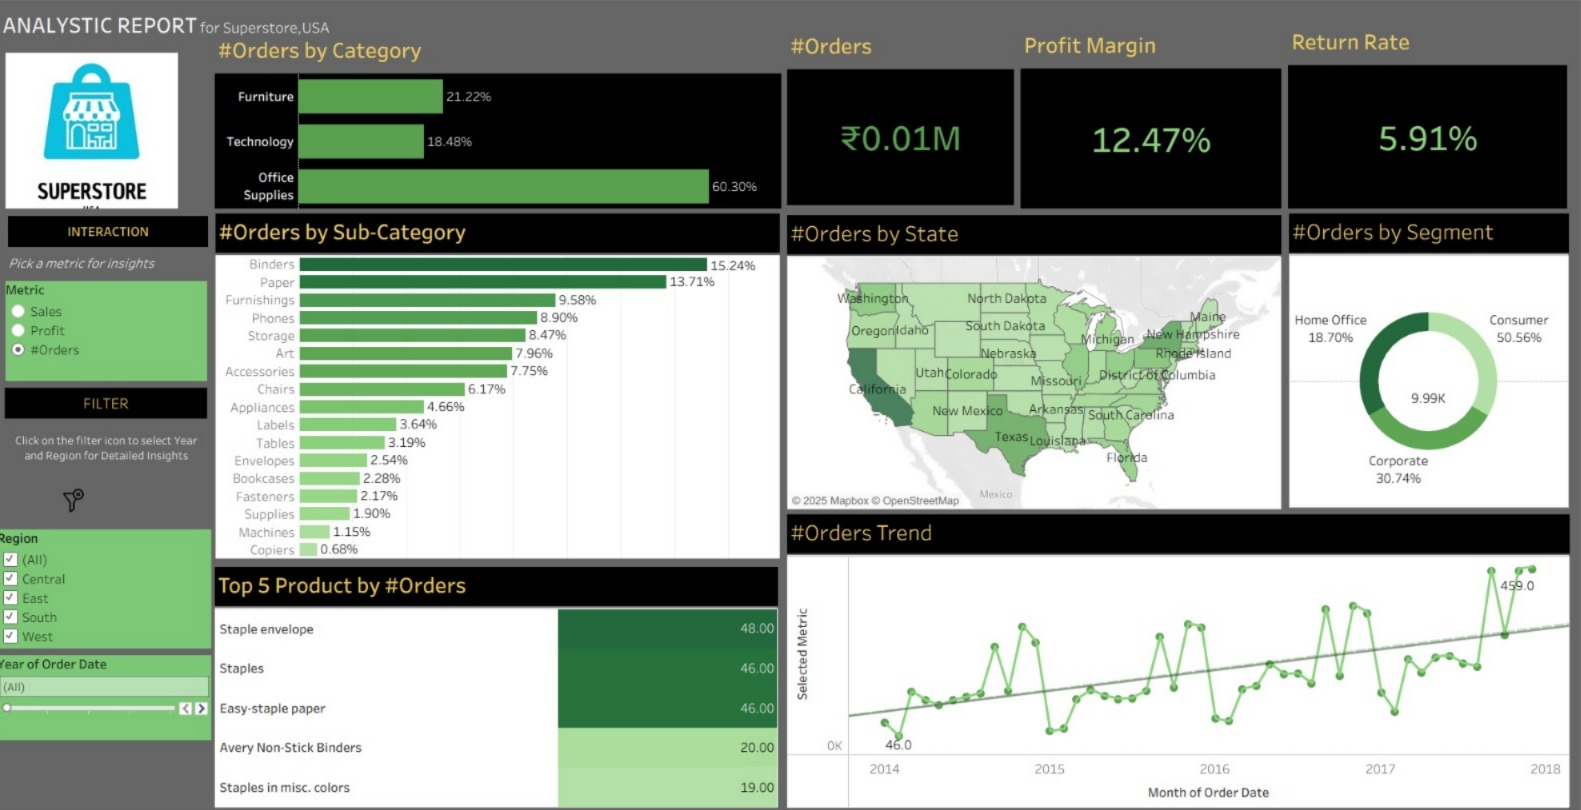

The dashboard page shown, as its layout file describes it:
{"tool":"tableau","page":{"name":"Dashboard Q7","canvas":[1000,1000],"units":"permille","ordinal":0},"visuals":[{"type":"text","box":[7.2,0,246.2,77.8]},{"type":"worksheet","title":"KPI-Return Rate","mark":"Automatic","box":[812.3,37.5,174.4,223.5]},{"type":"worksheet","title":"KPI- Profit Margin","mark":"Automatic","box":[645.1,41.2,163,219.7]},{"type":"worksheet","title":"KPI-sales","mark":"Automatic","box":[499.7,42.5,141.8,219.7]},{"type":"worksheet","title":"By category","mark":"Automatic","rows":["Category"],"cols":["Calculation_115686268145545216"],"box":[141.8,47.4,354.2,213.5]},{"type":"image","param":"Image/Picture1.jpg","box":[10.9,72.4,132.2,188.5]},{"type":"worksheet","title":"By sub-category","mark":"Automatic","rows":["Sub-Category"],"cols":["Calculation_115686268145545216"],"box":[142.4,267.2,352.4,417]},{"type":"worksheet","title":"piechart","mark":"Pie","rows":["Calculation_439945442210783240","Calculation_439945442210783240"],"box":[812.9,267.2,175,355.8]},{"type":"worksheet","title":"map","mark":"Multipolygon","box":[499.7,268.4,309,355.8]},{"type":"text","box":[12.7,269.7,124.9,37.5]},{"type":"text","box":[10.9,308.4,111.7,37.5]},{"type":"parameter","param":"[Parameters].[Profit Parameter]","box":[10.9,348.3,126.1,121.1]},{"type":"text","box":[10.3,476.9,126.7,37.5]},{"type":"worksheet","title":"Sheet 20","mark":"Automatic","box":[374.2,489,333.1,333.3]},{"type":"text","box":[10.9,511.9,126.1,76.2]},{"type":"dashboard-object","box":[45.9,599.3,14.5,27.9]},{"type":"worksheet","title":"linechart","mark":"Line","rows":["Calculation_115686268145545216","Calculation_115686268145545216"],"cols":["Order Date"],"box":[499.7,630.5,488.8,354.6]},{"type":"filter","title":"region","param":"[federated.1djc49m1uzfgmd11j4kah0k9o8j1].[none:Region:nk]","box":[3.6,644.6,138.2,188.5]},{"type":"worksheet","title":"region","mark":"Automatic","box":[10.3,672.5,128.6,197.4]},{"type":"worksheet","title":"top 5","mark":"Square","rows":["Product Name"],"box":[141.8,694.1,351.8,290.9]},{"type":"filter","title":"Sheet 20","param":"[federated.1djc49m1uzfgmd11j4kah0k9o8j1].[yr:Order Date:ok]","box":[3.6,833.1,138.2,137.3]}]}

Visuals, with their boxes on the dashboard's canvas, which has no fixed pixel size, in thousandths of its width and height (x1, y1, x2, y2). These are canvas units, not pixel positions in the 1581x810 screenshot, which may show the page scaled, cropped or inside an application window:
text: (7, 0, 253, 78)
"KPI-Return Rate" worksheet: (812, 38, 987, 261)
"KPI- Profit Margin" worksheet: (645, 41, 808, 261)
"KPI-sales" worksheet: (500, 42, 642, 262)
"By category" worksheet: (142, 47, 496, 261)
image: (11, 72, 143, 261)
"By sub-category" worksheet: (142, 267, 495, 684)
"piechart" worksheet (Pie marks): (813, 267, 988, 623)
"map" worksheet (Multipolygon marks): (500, 268, 809, 624)
text: (13, 270, 138, 307)
text: (11, 308, 123, 346)
parameter: (11, 348, 137, 469)
text: (10, 477, 137, 514)
"Sheet 20" worksheet: (374, 489, 707, 822)
text: (11, 512, 137, 588)
dashboard-object: (46, 599, 60, 627)
"linechart" worksheet (Line marks): (500, 630, 988, 985)
"region" filter: (4, 645, 142, 833)
"region" worksheet: (10, 672, 139, 870)
"top 5" worksheet (Square marks): (142, 694, 494, 985)
"Sheet 20" filter: (4, 833, 142, 970)
